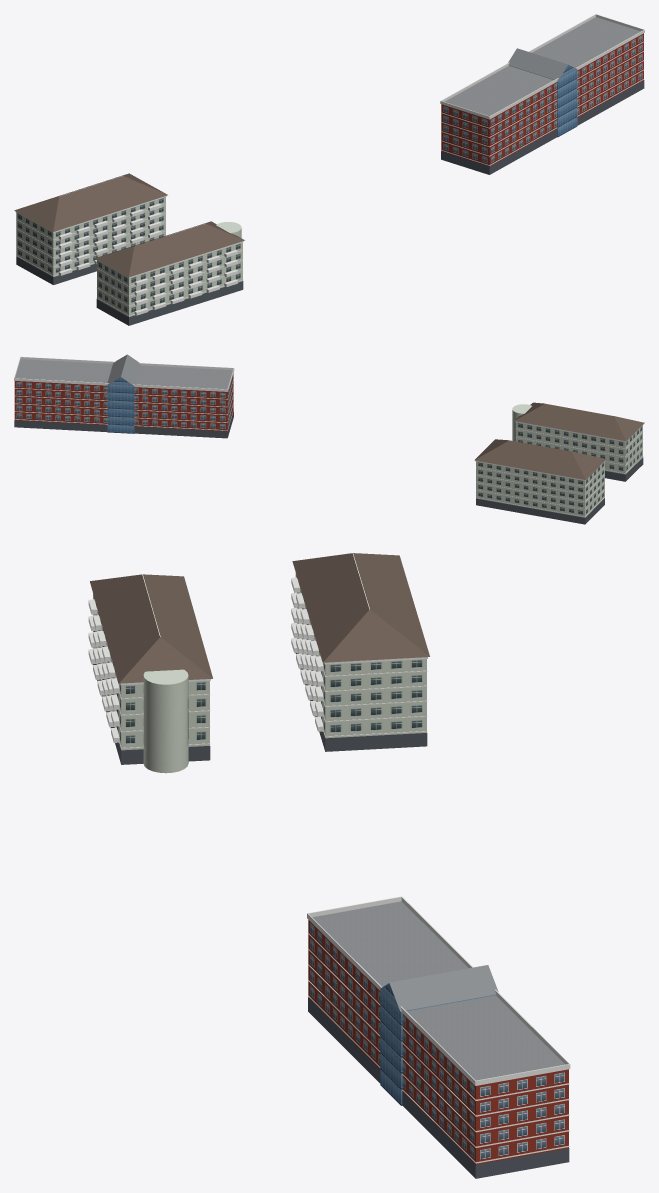
File: dorm_qinyuan_e5.glb
The picture shows the model from 3 angles, top to bottom: view 1: azimuth 30°, elevation 25°; view 2: azimuth 150°, elevation 25°; view 3: azimuth 270°, elevation 25°; orthographic projection. The views are drawn at different scales.
Visible parts, largest first — view 1: 1316148869, 862959359, 862959360; view 2: 1316148869, 862959359, 862959360; view 3: 1316148869, 862959359, 862959360.
Boxes of the visible parts, x1,y1,x2,y2 form: 1316148869: (440,14,644,174); 862959359: (14,173,167,284); 862959360: (95,221,244,325); 1316148869: (14,354,234,438); 862959359: (474,439,606,524); 862959360: (512,402,644,481); 1316148869: (307,896,570,1178); 862959359: (291,553,429,751); 862959360: (88,574,212,773).
Bounding box in the file's own units: 235 × 24.32 × 89.89.
8 materials, 5 textured.
